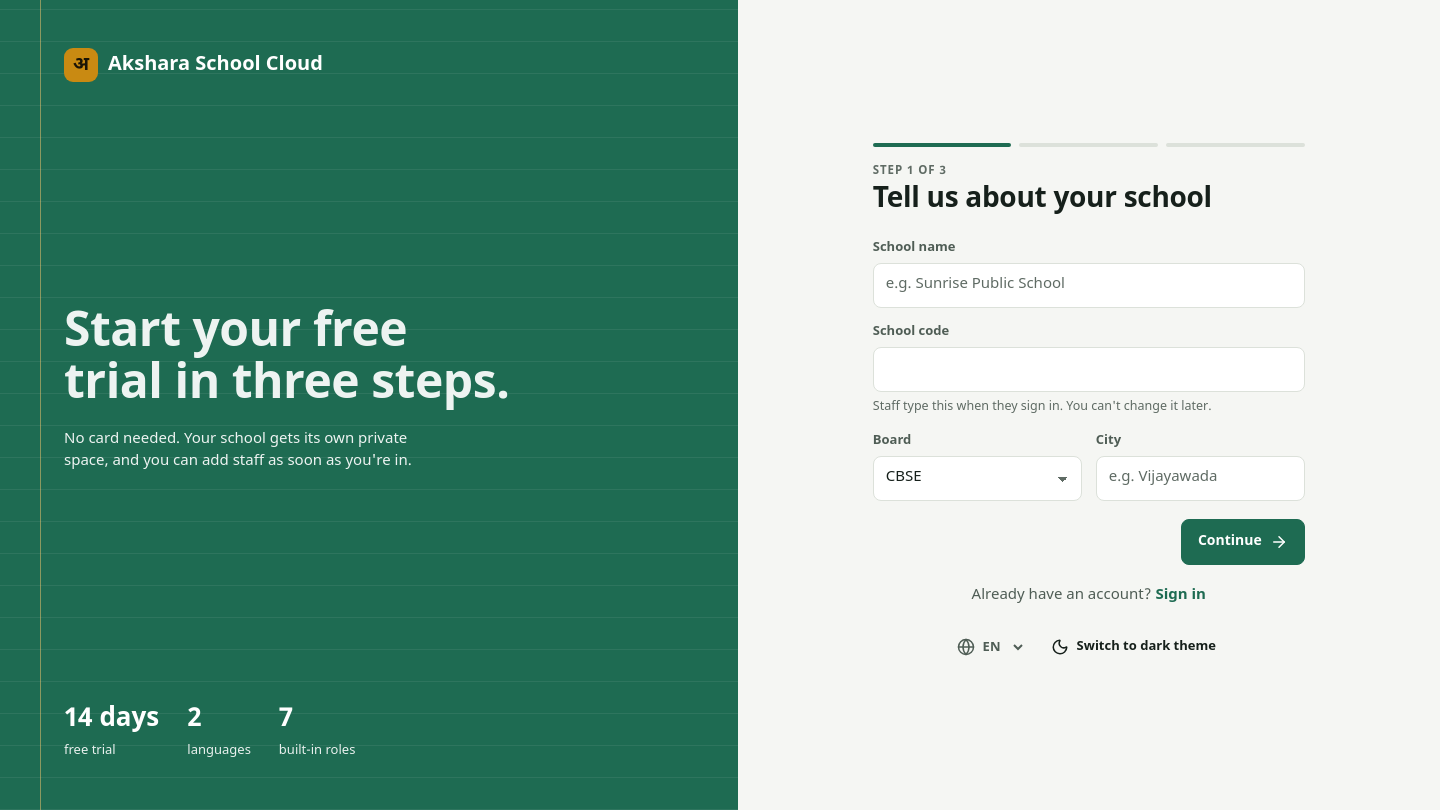
Test: SignupView › blocks Continue with inline errors
Click the button "Continue" at (1243, 542), box [1181,518,1305,564]
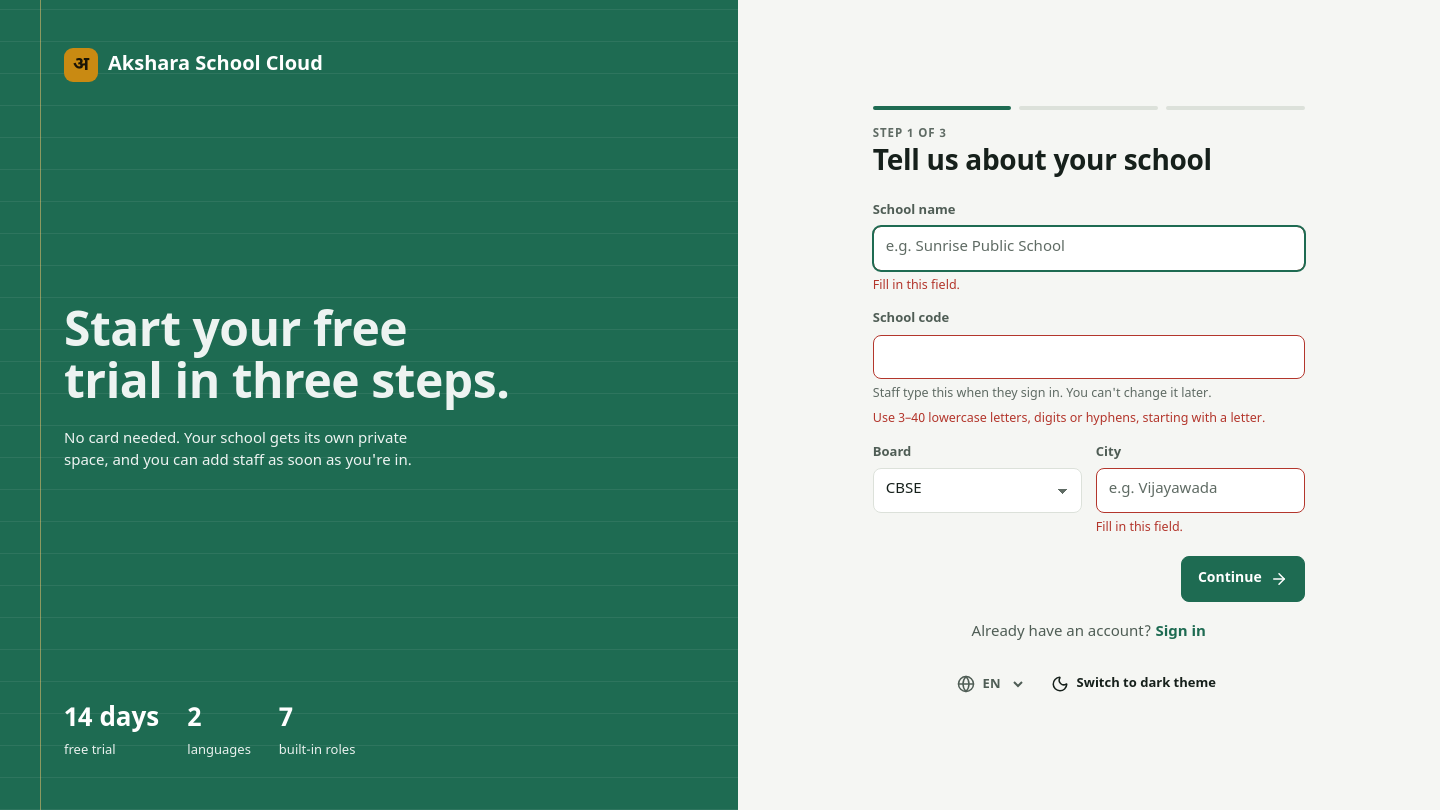
Expected: the heading "Tell us about your school" is shown, [873,145,1212,181]
Expected: the text "Fill in this field." below "School name" is shown, [873,278,960,294]
